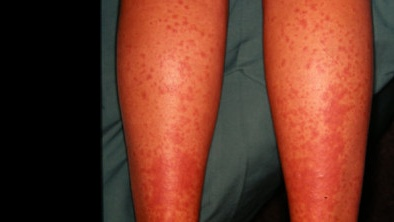SJS-TEN: (257, 0, 385, 222), (112, 0, 233, 222)
